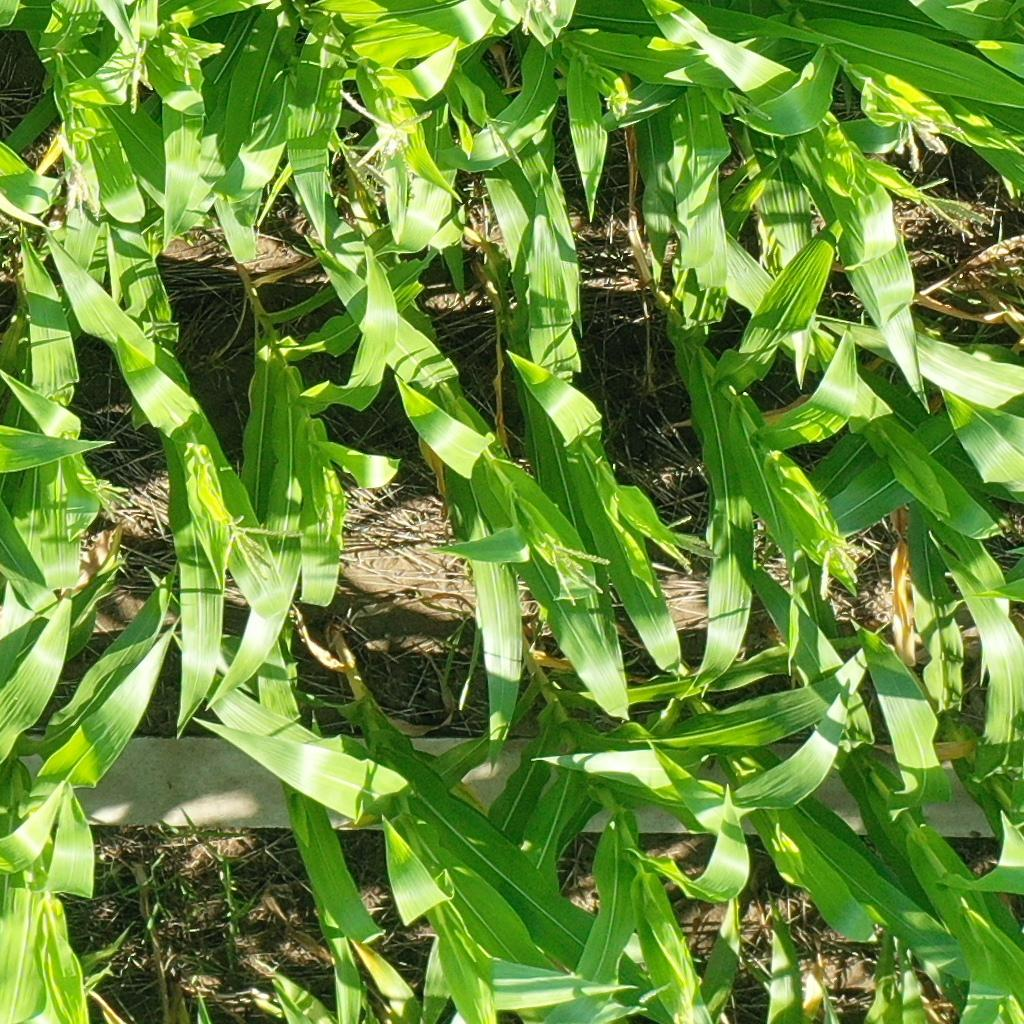Tassel: (333, 83, 438, 173), (220, 508, 316, 599), (905, 175, 996, 241), (886, 98, 963, 173), (96, 34, 162, 117), (539, 533, 614, 604), (46, 135, 102, 223), (651, 509, 724, 576), (809, 529, 868, 599), (166, 27, 219, 86), (634, 983, 710, 1024), (88, 476, 131, 520), (520, 1, 562, 39), (597, 88, 640, 121)
